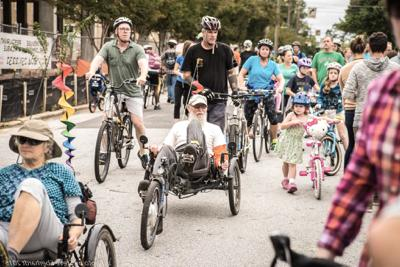With Helmet: (201, 16, 221, 48), (112, 16, 135, 43), (256, 38, 276, 59)
